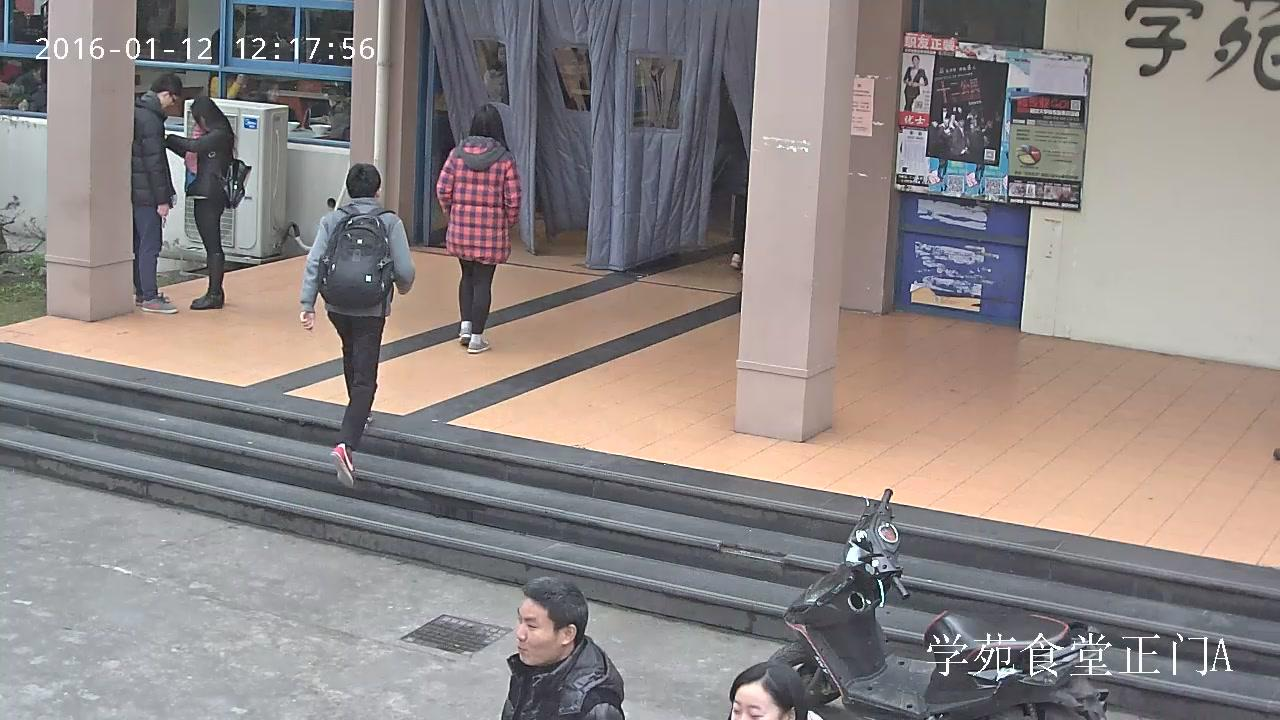person: (299, 163, 416, 487), (436, 104, 520, 353), (166, 96, 251, 308), (500, 576, 624, 720), (131, 73, 183, 313), (713, 91, 748, 267), (211, 7, 243, 67), (319, 88, 350, 140), (15, 61, 47, 111), (902, 54, 927, 110), (208, 65, 249, 99)
